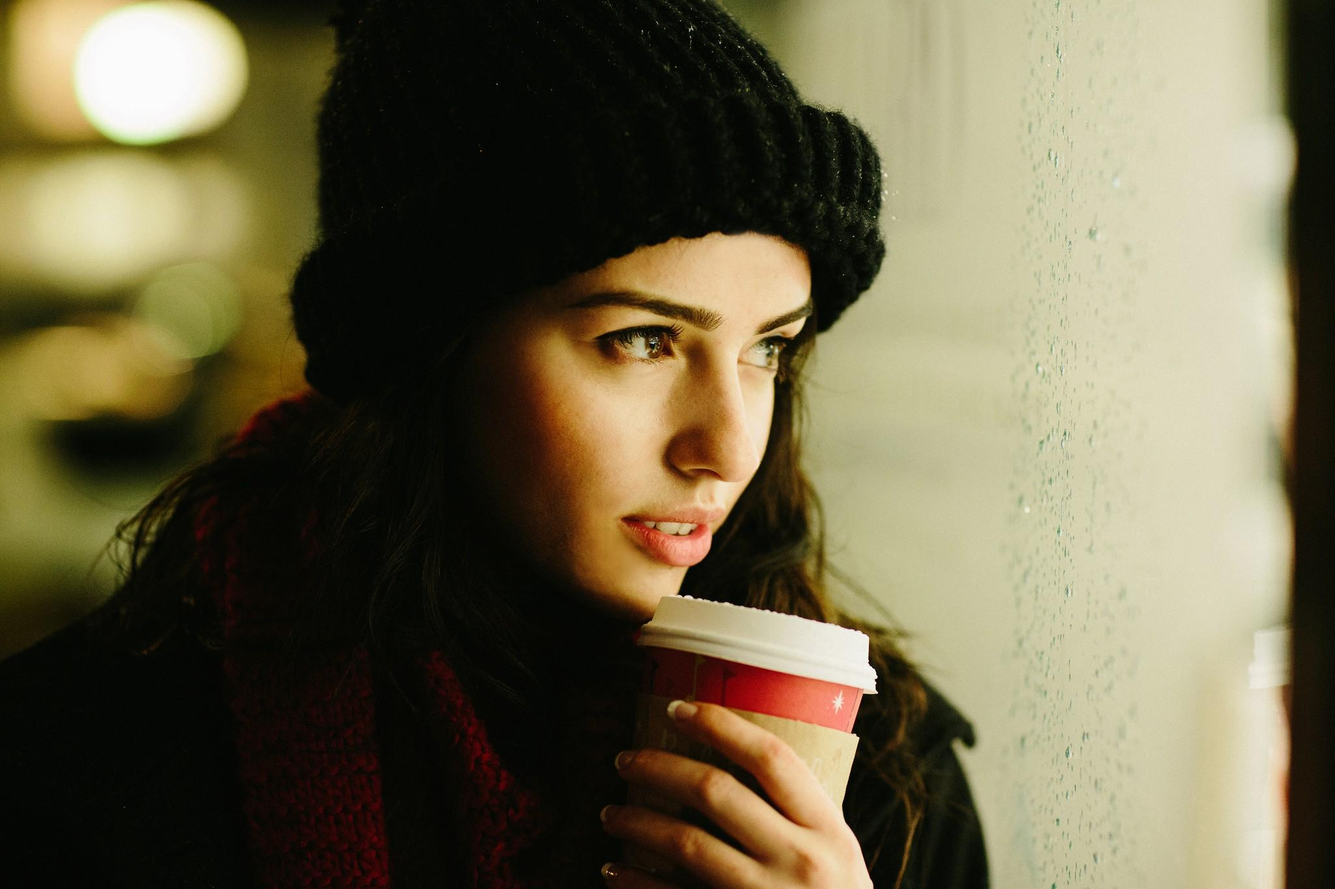cap: (282, 0, 900, 367)
